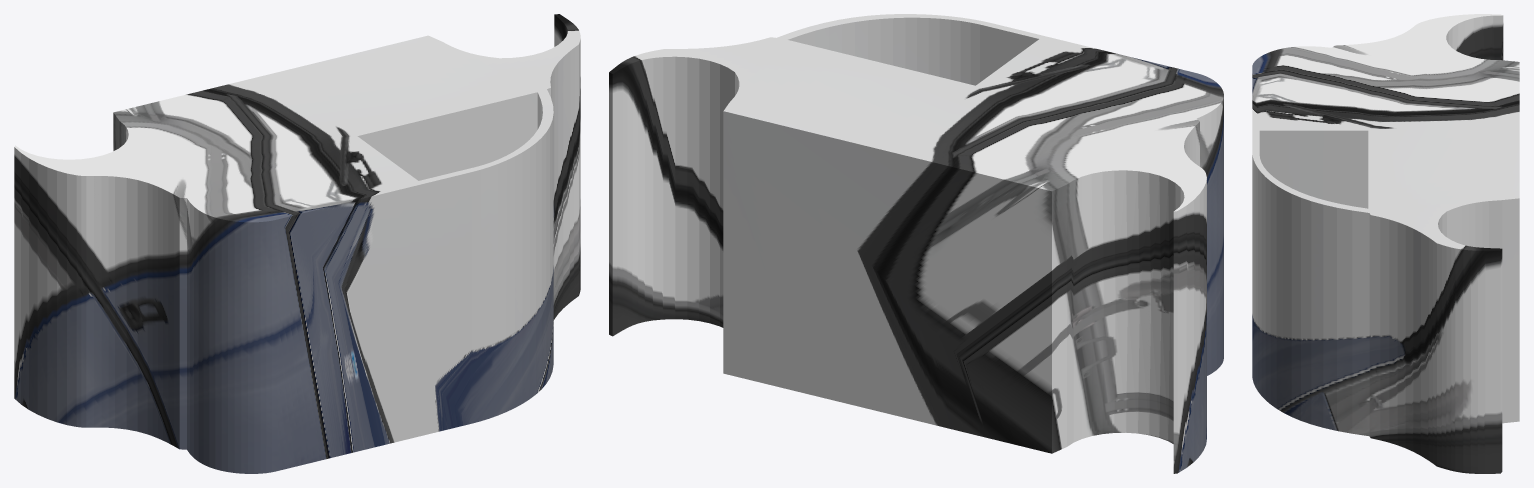
Rendered from body.obj.
The picture shows the model from 3 angles, left to right: view 1: azimuth 30°, elevation 25°; view 2: azimuth 150°, elevation 25°; view 3: azimuth 270°, elevation 25°; orthographic projection. The views are drawn at different scales.
Visible parts, largest first — view 1: Body; view 2: Body; view 3: Body.
Boxes of the visible parts, x1,y1,x2,y2 form: Body: (14,14,580,473); Body: (609,14,1223,473); Body: (1252,14,1519,473).
Size of the model in its own units: 3.21 by 1.41 by 1.53.
